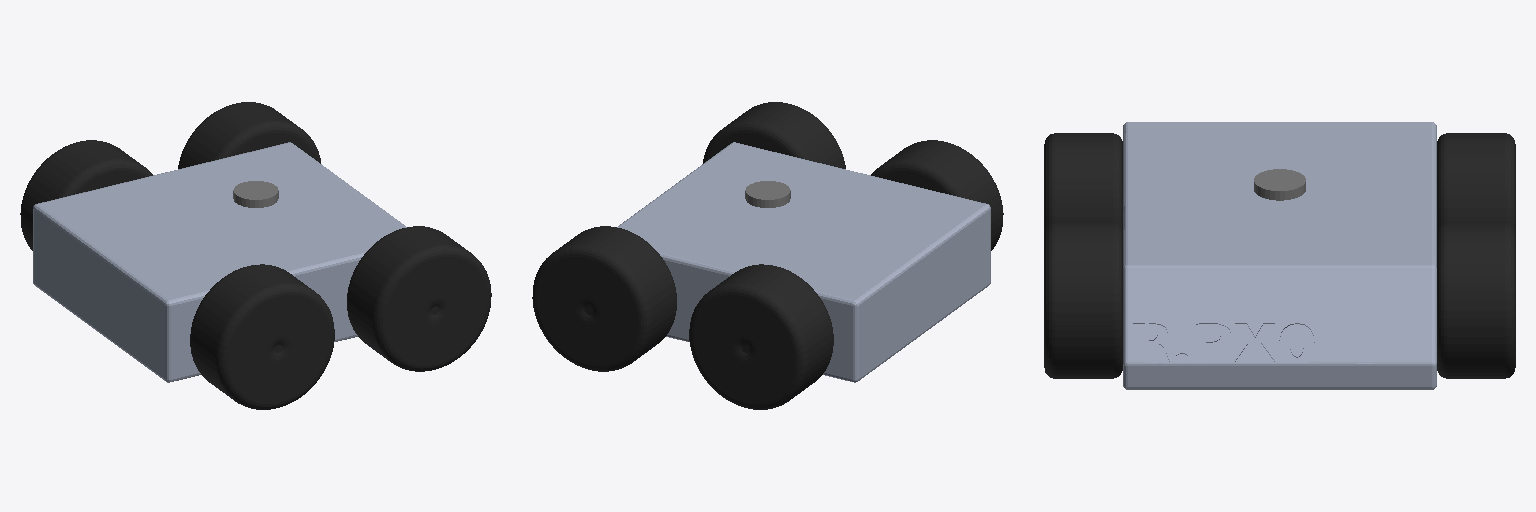
The robot description file, URDF, robot "R_PX0":
<?xml version="1.0" encoding="utf-8"?>
<!-- This URDF was automatically created by SolidWorks to URDF Exporter! Originally created by [author] ([email redacted]) 
     Commit Version: 1.6.0-4-g7f85cfe  Build Version: 1.6.7995.38578
     For more information, please see http://wiki.ros.org/sw_urdf_exporter -->
<robot
  name="R_PX0">
  <link name="base_footprint" />
  <link
    name="base_link">
    <inertial>
      <origin
        xyz="-0.0238340891657957 7.87439868419337E-05 0.0964993270009829"
        rpy="0 0 0" />
      <mass
        value="90.3246909159885" />
      <inertia
        ixx="3.0427141358291"
        ixy="-0.00277129251253968"
        ixz="0.115541496859396"
        iyy="4.60554880003911"
        iyz="5.71138685020814E-05"
        izz="7.05947261332458" />
    </inertial>
    <visual>
      <origin
        xyz="0 0 0"
        rpy="0 0 0" />
      <geometry>
        <mesh
          filename="package://R_PX0/meshes/base_link.STL" />
      </geometry>
      <material
        name="">
        <color
          rgba="0.666666666666667 0.698039215686274 0.768627450980392 1" />
      </material>
    </visual>
    <collision>
      <origin
        xyz="0 0 0"
        rpy="0 0 0" />
      <geometry>
        <mesh
          filename="package://R_PX0/meshes/base_link.STL" />
      </geometry>
    </collision>
  </link>
  <gazebo reference="base_link">
  <material>Gazebo/Gray</material>
</gazebo>
  <link
    name="FR_LINK">
    <inertial>
      <origin
        xyz="0 0.069349 6.9389E-18"
        rpy="0 0 0" />
      <mass
        value="10.3" />
      <inertia
        ixx="0.076627"
        ixy="-8.7093E-18"
        ixz="1.2324E-18"
        iyy="0.11589"
        iyz="-2.3401E-19"
        izz="0.076627" />
    </inertial>
    <visual>
      <origin
        xyz="0 0 0"
        rpy="0 0 0" />
      <geometry>
        <mesh
          filename="package://R_PX0/meshes/FR_LINK.STL" />
      </geometry>
      <material
        name="">
        <color
          rgba="0.2 0.2 0.2 1" />
      </material>
    </visual>
    <collision>
      <origin
        xyz="0 0 0"
        rpy="0 0 0" />
      <geometry>
        <mesh
          filename="package://R_PX0/meshes/FR_LINK.STL" />
      </geometry>
    </collision>
  </link>
  <gazebo reference="FR_LINK">
  <material>Gazebo/Black</material>
</gazebo>
  <joint
    name="FR_JOINT"
    type="continuous">
    <origin
      xyz="0.2 -0.445 0.1"
      rpy="0 0 0" />
    <parent
      link="base_link" />
    <child
      link="FR_LINK" />
    <axis
      xyz="0 1 0" />
  </joint>
<gazebo reference="FR_JOINT">
  <provideFeedback>true</provideFeedback>
</gazebo>
  <link
    name="BR_LINK">
    <inertial>
      <origin
        xyz="5.5511E-17 0.069349 1.3878E-17"
        rpy="0 0 0" />
      <mass
        value="10.3" />
      <inertia
        ixx="0.076627"
        ixy="-7.0931E-18"
        ixz="-1.4477E-18"
        iyy="0.11589"
        iyz="-1.5694E-19"
        izz="0.076627" />
    </inertial>
    <visual>
      <origin
        xyz="0 0 0"
        rpy="0 0 0" />
      <geometry>
        <mesh
          filename="package://R_PX0/meshes/BR_LINK.STL" />
      </geometry>
      <material
        name="">
        <color
          rgba="0.2 0.2 0.2 1" />
      </material>
    </visual>
    <collision>
      <origin
        xyz="0 0 0"
        rpy="0 0 0" />
      <geometry>
        <mesh
          filename="package://R_PX0/meshes/BR_LINK.STL" />
      </geometry>
    </collision>
  </link>
	<gazebo reference="BR_LINK">
	  <material>Gazebo/Black</material>
	</gazebo>
  <joint
    name="BR_JOINT"
    type="continuous">
    <origin
      xyz="-0.2 -0.445 0.1"
      rpy="0 0 0" />
    <parent
      link="base_link" />
    <child
      link="BR_LINK" />
    <axis
      xyz="0 1 0" />
  </joint>
<gazebo reference="BR_JOINT">
  <provideFeedback>true</provideFeedback>
</gazebo>
  <link
    name="FL_LINK">
    <inertial>
      <origin
        xyz="0 -0.069349 -6.9389E-18"
        rpy="0 0 0" />
      <mass
        value="10.3" />
      <inertia
        ixx="0.076627"
        ixy="8.8154E-18"
        ixz="-8.1926E-19"
        iyy="0.11589"
        iyz="-4.5425E-19"
        izz="0.076627" />
    </inertial>
    <visual>
      <origin
        xyz="0 0 0"
        rpy="0 0 0" />
      <geometry>
        <mesh
          filename="package://R_PX0/meshes/FL_LINK.STL" />
      </geometry>
      <material
        name="">
        <color
          rgba="0.2 0.2 0.2 1" />
      </material>
    </visual>
    <collision>
      <origin
        xyz="0 0 0"
        rpy="0 0 0" />
      <geometry>
        <mesh
          filename="package://R_PX0/meshes/FL_LINK.STL" />
      </geometry>
    </collision>
  </link>
	<gazebo reference="FL_LINK">
	  <material>Gazebo/Black</material>
	</gazebo>
  <joint
    name="FL_JOINT"
    type="continuous">
    <origin
      xyz="0.2 0.445 0.1"
      rpy="0 0 0" />
    <parent
      link="base_link" />
    <child
      link="FL_LINK" />
    <axis
      xyz="0 -1 0" />
  </joint>
<gazebo reference="FL_JOINT">
  <provideFeedback>true</provideFeedback>
</gazebo>
  <link
    name="BL_LINK">
    <inertial>
      <origin
        xyz="5.5511E-17 -0.069349 0"
        rpy="0 0 0" />
      <mass
        value="10.3" />
      <inertia
        ixx="0.076627"
        ixy="8.7433E-18"
        ixz="-2.5659E-18"
        iyy="0.11589"
        iyz="-5.8634E-19"
        izz="0.076627" />
    </inertial>
    <visual>
      <origin
        xyz="0 0 0"
        rpy="0 0 0" />
      <geometry>
        <mesh
          filename="package://R_PX0/meshes/BL_LINK.STL" />
      </geometry>
      <material
        name="">
        <color
          rgba="0.2 0.2 0.2 1" />
      </material>
    </visual>
    <collision>
      <origin
        xyz="0 0 0"
        rpy="0 0 0" />
      <geometry>
        <mesh
          filename="package://R_PX0/meshes/BL_LINK.STL" />
      </geometry>
    </collision>
  </link>
	<gazebo reference="BL_LINK">
	  <material>Gazebo/Black</material>
	</gazebo>
  <joint
    name="BL_JOINT"
    type="continuous">
    <origin
      xyz="-0.2 0.445 0.1"
      rpy="0 0 0" />
    <parent
      link="base_link" />
    <child
      link="BL_LINK" />
    <axis
      xyz="0 -1 0" />
  </joint>
<gazebo reference="BL_JOINT">
  <provideFeedback>true</provideFeedback>
</gazebo>
  <joint name="base_joint" type="fixed">
  	<parent link="base_footprint" />
  	<child link="base_link" />
  	<origin xyz="0 0 0.05" rpy="0 0 0" />
  </joint>
  
<gazebo>
  <plugin name="skid_steer_drive_controller" filename="libgazebo_ros_skid_steer_drive.so">
    <updateRate>100.0</updateRate>
    <robotNamespace>/</robotNamespace>

    <!-- Wheel joints -->
    <leftFrontJoint>FL_JOINT</leftFrontJoint>
    <rightFrontJoint>FR_JOINT</rightFrontJoint>
    <leftRearJoint>BL_JOINT</leftRearJoint>
    <rightRearJoint>BR_JOINT</rightRearJoint>

    <!-- Wheel parameters -->
    <wheelSeparation>0.4</wheelSeparation>
    <wheelDiameter>0.215</wheelDiameter>
    <torque>50.0</torque>

    <!-- Topics and Frames -->
    <robotBaseFrame>base_footprint</robotBaseFrame>
    <odometryFrame>odom</odometryFrame>
    <commandTopic>cmd_vel</commandTopic>
    <odometryTopic>odom</odometryTopic>
    <broadcastTF>true</broadcastTF>
    <publishWheelTF>true</publishWheelTF>

  </plugin>
</gazebo>


  <transmission name="FR_trans">
    <type>transmission_interface/SimpleTransmission</type>
    <actuator name="FR_motor">
      <hardwareInterface>hardware_interface/EffortJointInterface</hardwareInterface>

    </actuator>
    <joint name="FR_JOINT">
      <hardwareInterface>hardware_interface/EffortJointInterface</hardwareInterface>

    </joint>
  </transmission>

  <transmission name="FL_trans">
    <type>transmission_interface/SimpleTransmission</type>
    <actuator name="FL_motor">
      <hardwareInterface>hardware_interface/EffortJointInterface</hardwareInterface>

    </actuator>
    <joint name="FL_JOINT">
      <hardwareInterface>hardware_interface/EffortJointInterface</hardwareInterface>

    </joint>
  </transmission>

  <transmission name="BR_trans">
    <type>transmission_interface/SimpleTransmission</type>
    <actuator name="BR_motor">
      <hardwareInterface>hardware_interface/EffortJointInterface</hardwareInterface>

    </actuator>
    <joint name="BR_JOINT">
      <hardwareInterface>hardware_interface/EffortJointInterface</hardwareInterface>

    </joint>
  </transmission>

  <transmission name="BL_trans">
    <type>transmission_interface/SimpleTransmission</type>
    <actuator name="BL_motor">
      <hardwareInterface>hardware_interface/EffortJointInterface</hardwareInterface>

    </actuator>
    <joint name="BL_JOINT">
      <hardwareInterface>hardware_interface/EffortJointInterface</hardwareInterface>

    </joint>
  </transmission>
 
<gazebo>
  <plugin name="gazebo_ros_control" filename="libgazebo_ros_control.so"/>
</gazebo>

<link name="laser_link">
  <visual>
    <origin xyz="0 0 0" rpy="0 0 0"/>
    <geometry>
      <cylinder length="0.02" radius="0.05"/>
    </geometry>
    <material name="gray">
      <color rgba="0.5 0.5 0.5 1"/>
    </material>
  </visual>
</link>
<gazebo reference="laser_link">
	<material>Gazebo/Blue</material>
</gazebo>
<joint name="laser_joint" type="fixed">
  <parent link="base_link"/>
  <child link="laser_link"/>
  <origin xyz="0 0 0.25" rpy="0 0 0"/>
</joint>
<gazebo reference="laser_link">
  <sensor type="ray" name="laser_sensor">
    <pose>0 0 0 0 0 0</pose>
    <visualize>true</visualize>
    <update_rate>20.0</update_rate>
    <ray>
      <scan>
        <horizontal>
          <samples>720</samples>
          <resolution>1</resolution>
          <min_angle>-3.14159</min_angle>
          <max_angle>3.14159</max_angle>
        </horizontal>
      </scan>
      <range>
        <min>0.1</min>
        <max>10.0</max>
        <resolution>0.01</resolution>
      </range>
    </ray>
    <plugin name="gazebo_ros_laser" filename="libgazebo_ros_laser.so">
      <topicName>scan</topicName>
      <frameName>laser_link</frameName>
    </plugin>
  </sensor>
</gazebo>

</robot>

--- Render facts (derived) ---
The picture shows the robot from 3 angles, left to right: view 1: azimuth 30°, elevation 25°; view 2: azimuth 150°, elevation 25°; view 3: azimuth 270°, elevation 25°; orthographic projection.
Robot: R_PX0 — 7 links, 6 joints (4 continuous, 2 fixed); root link base_footprint; default pose: all joints at 0.
Visible links, largest first — view 1: base_link, BR_LINK, FR_LINK, BL_LINK, FL_LINK, laser_link; view 2: base_link, BL_LINK, FL_LINK, BR_LINK, FR_LINK, laser_link; view 3: base_link, FR_LINK, FL_LINK, BL_LINK, BR_LINK, laser_link.
Link boxes in pixels (bbox=[...]): base_link: bbox=[33, 142, 406, 382]; BR_LINK: bbox=[190, 264, 334, 409]; FR_LINK: bbox=[347, 226, 491, 371]; BL_LINK: bbox=[20, 140, 152, 250]; FL_LINK: bbox=[178, 102, 320, 168]; laser_link: bbox=[233, 181, 278, 207]; base_link: bbox=[617, 142, 990, 382]; BL_LINK: bbox=[689, 264, 833, 409]; FL_LINK: bbox=[532, 226, 676, 371]; BR_LINK: bbox=[871, 140, 1003, 250]; FR_LINK: bbox=[703, 102, 845, 168]; laser_link: bbox=[745, 181, 790, 207]; base_link: bbox=[1123, 122, 1436, 389]; FR_LINK: bbox=[1044, 222, 1122, 378]; FL_LINK: bbox=[1437, 222, 1515, 378]; BL_LINK: bbox=[1437, 133, 1515, 231]; BR_LINK: bbox=[1044, 133, 1122, 231]; laser_link: bbox=[1254, 169, 1305, 200].
Size in the robot's own frame: 0.8 by 0.9 by 0.31 metres.
5 mesh visuals loaded from 5 distinct referenced files (5 binary STL).
